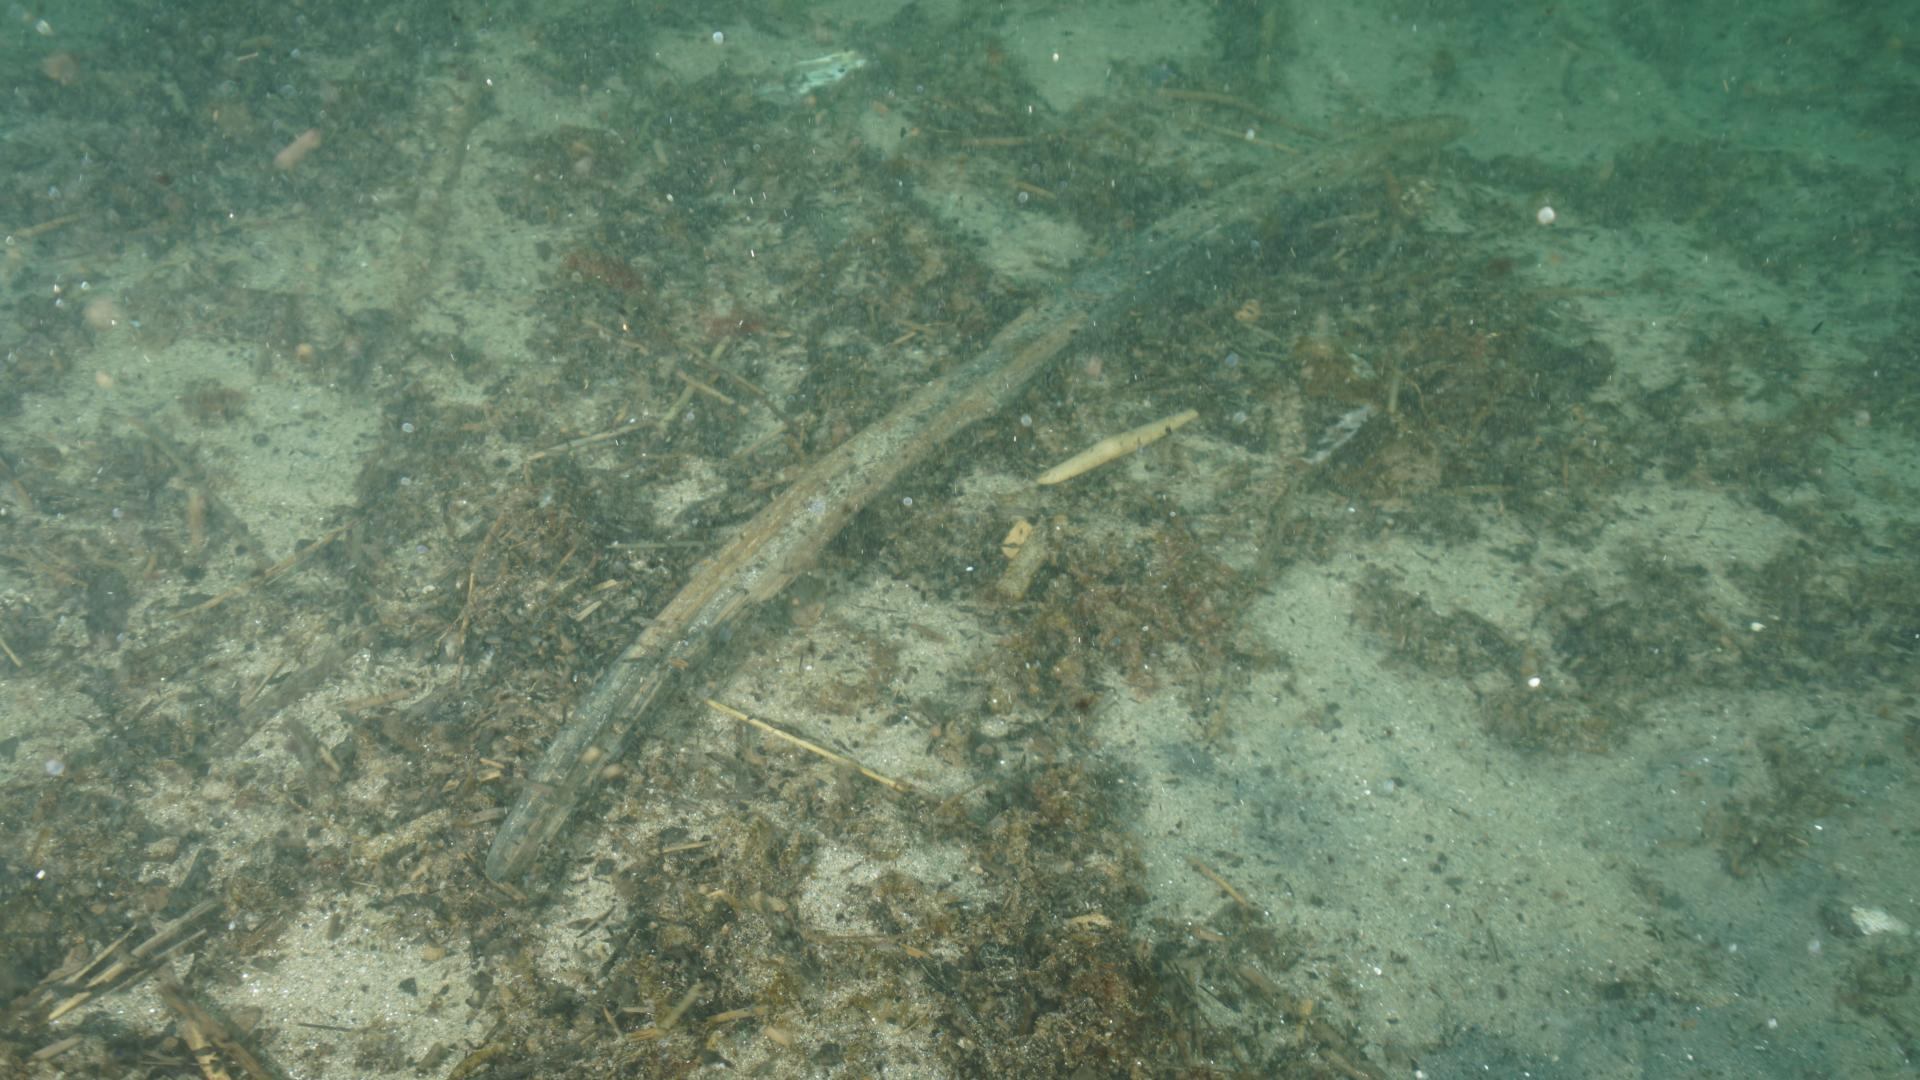wood: (480, 123, 1462, 905)
